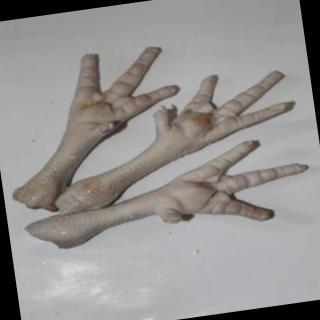Ayam: (1, 25, 315, 253), (47, 66, 301, 215), (18, 133, 318, 254), (1, 43, 193, 220)
